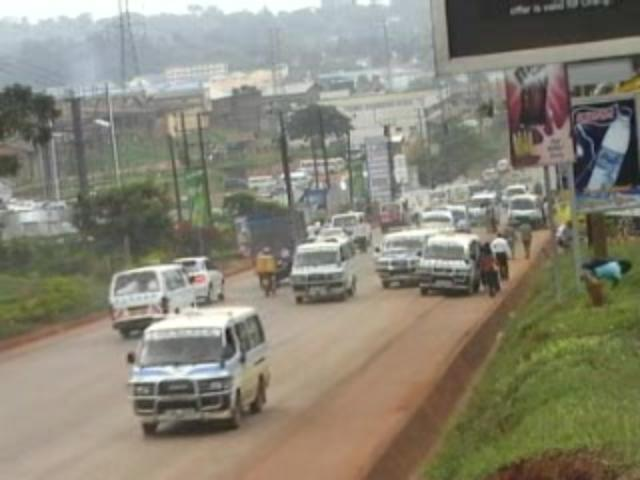car: (172, 256, 225, 304)
motorcycle: (254, 249, 282, 295)
van: (131, 302, 265, 434), (110, 263, 199, 336), (292, 235, 353, 303), (417, 234, 476, 293), (374, 230, 428, 287), (329, 210, 372, 249), (506, 194, 543, 229)
